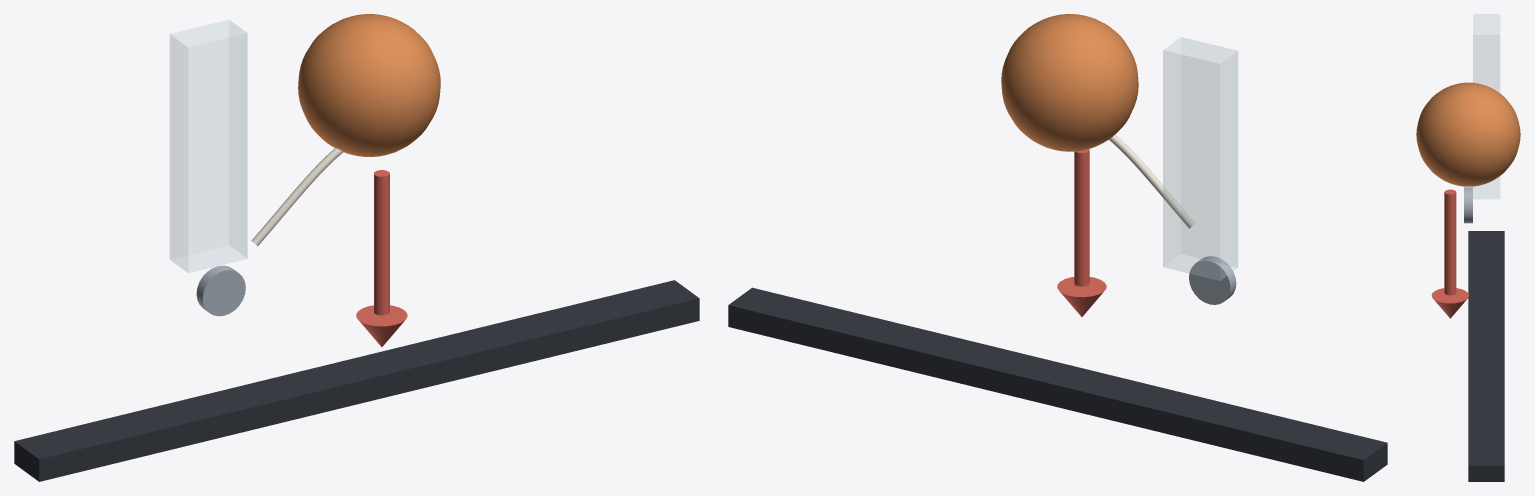
The model's file is physics-p1-weight.glb.
3 views of the same model, side by side, from view 1: azimuth 30°, elevation 25°; view 2: azimuth 150°, elevation 25°; view 3: azimuth 270°, elevation 25° (orthographic). The views are drawn at different scales.
Parts seen in each view (by area): view 1: mechanics-bench-reference-base, spring-scale-body, object-with-mass-has-weight, weight-force-downward-shaft, spring-scale-hook, weight-force-downward-head, scale-string-to-object; view 2: mechanics-bench-reference-base, spring-scale-body, object-with-mass-has-weight, weight-force-downward-shaft, spring-scale-hook, weight-force-downward-head, scale-string-to-object; view 3: mechanics-bench-reference-base, object-with-mass-has-weight, spring-scale-body, weight-force-downward-shaft, weight-force-downward-head, spring-scale-hook.
Boxes of the visible parts, x1=… form: mechanics-bench-reference-base: x1=14, y1=280, x2=699, y2=481; spring-scale-body: x1=170, y1=20, x2=247, y2=272; object-with-mass-has-weight: x1=298, y1=14, x2=440, y2=156; weight-force-downward-shaft: x1=374, y1=170, x2=389, y2=315; spring-scale-hook: x1=196, y1=265, x2=245, y2=316; weight-force-downward-head: x1=356, y1=305, x2=407, y2=346; scale-string-to-object: x1=251, y1=148, x2=343, y2=246; mechanics-bench-reference-base: x1=728, y1=287, x2=1387, y2=481; spring-scale-body: x1=1163, y1=37, x2=1237, y2=280; object-with-mass-has-weight: x1=1001, y1=14, x2=1138, y2=151; weight-force-downward-shaft: x1=1074, y1=149, x2=1089, y2=286; spring-scale-hook: x1=1189, y1=256, x2=1236, y2=304; weight-force-downward-head: x1=1057, y1=277, x2=1106, y2=316; scale-string-to-object: x1=1109, y1=134, x2=1195, y2=228; mechanics-bench-reference-base: x1=1468, y1=231, x2=1504, y2=481; object-with-mass-has-weight: x1=1416, y1=82, x2=1520, y2=186; spring-scale-body: x1=1473, y1=14, x2=1499, y2=198; weight-force-downward-shaft: x1=1444, y1=189, x2=1456, y2=295; weight-force-downward-head: x1=1431, y1=288, x2=1468, y2=318; spring-scale-hook: x1=1464, y1=187, x2=1472, y2=223.
Size of what is drawn, in the model's own units: 2.45 by 1.4 by 0.46.
